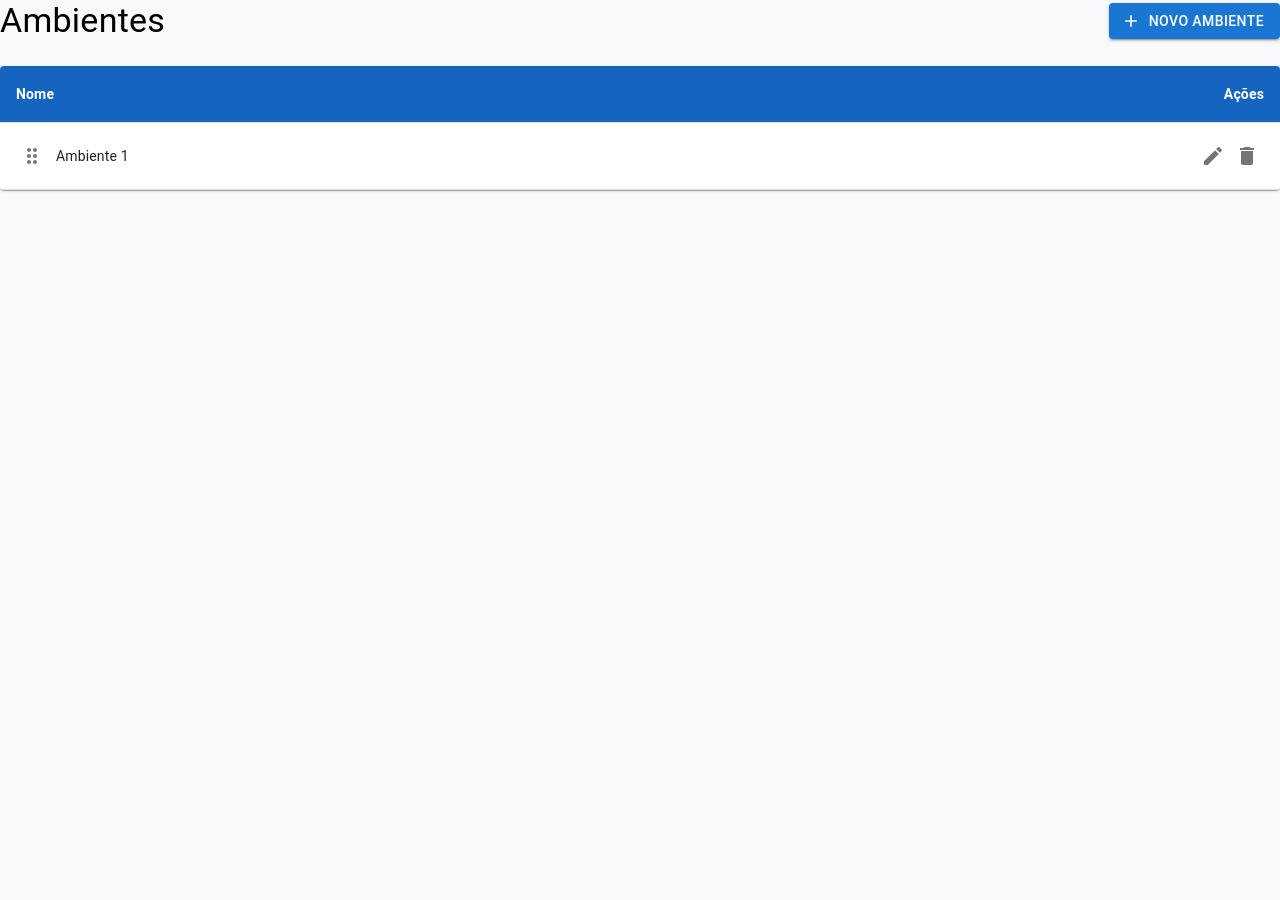
Test: CRUD de Ambientes › Exclusão › deve retornar erro ao tentar deletar ambiente inexistente
The image size is (1280, 900).
Click the button named "excluir": (1247, 156) [1230,139,1264,173]
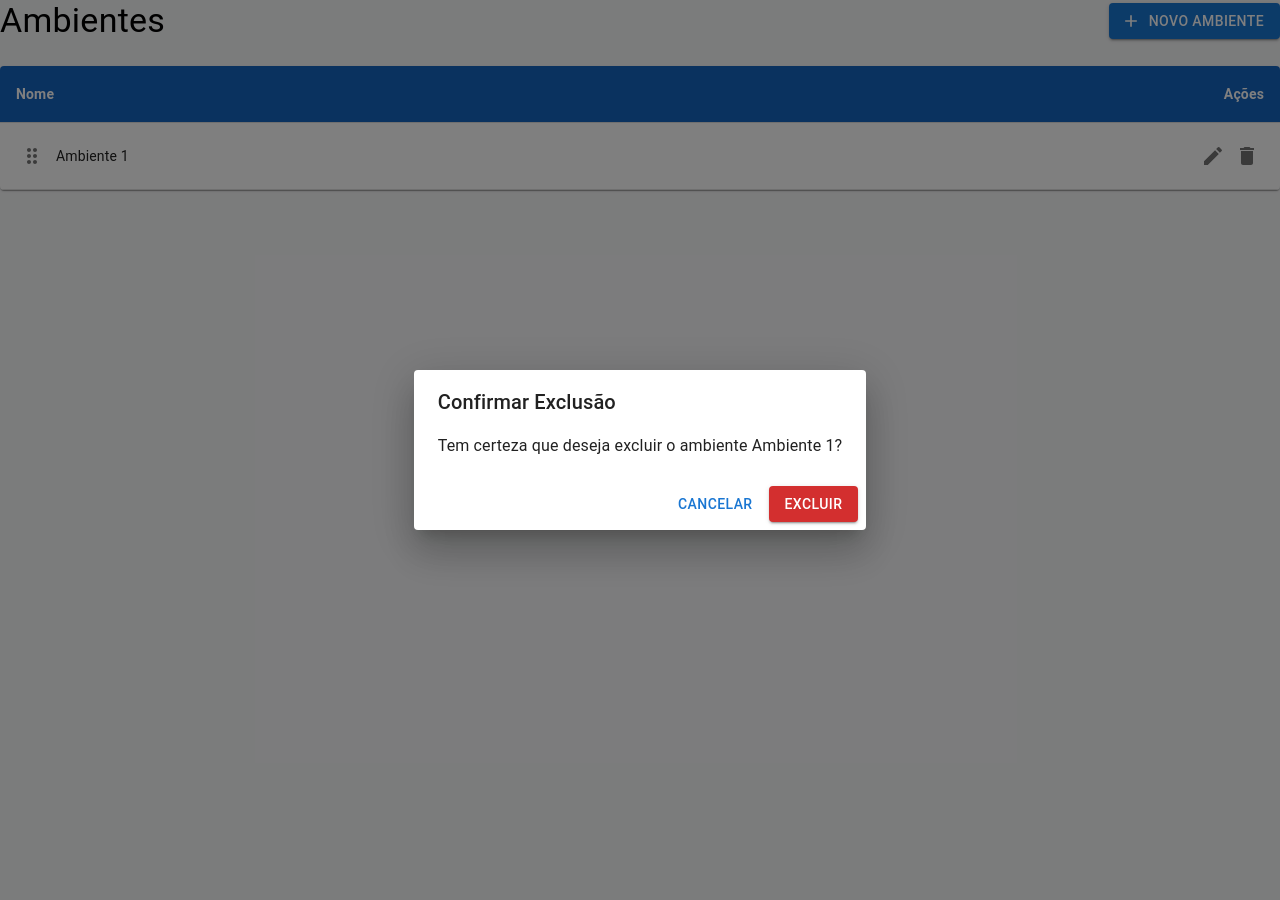
Click the button "Excluir": (813, 504) [768,486,858,522]
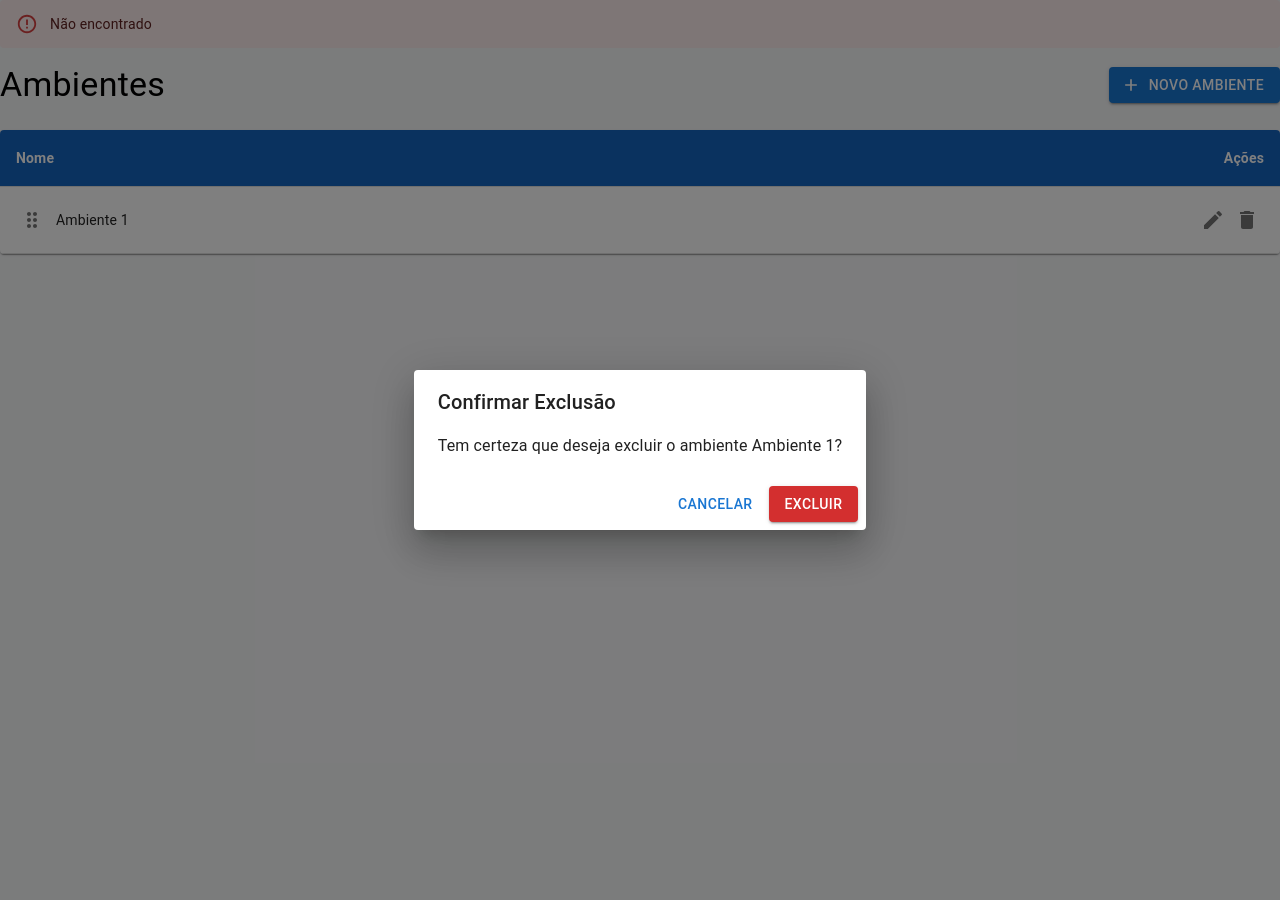
Result: the text "Não encontrado" is shown at [50,16,152,32]
